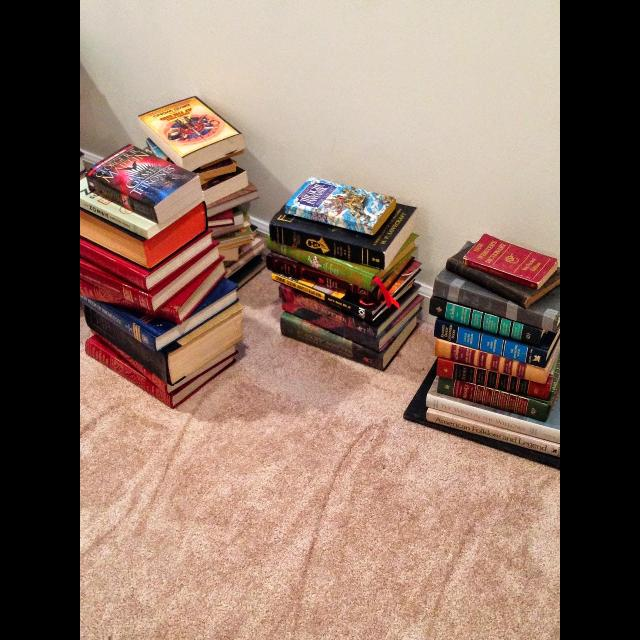papel: (80, 146, 248, 410), (404, 233, 560, 477), (269, 177, 425, 373), (142, 92, 272, 294)
